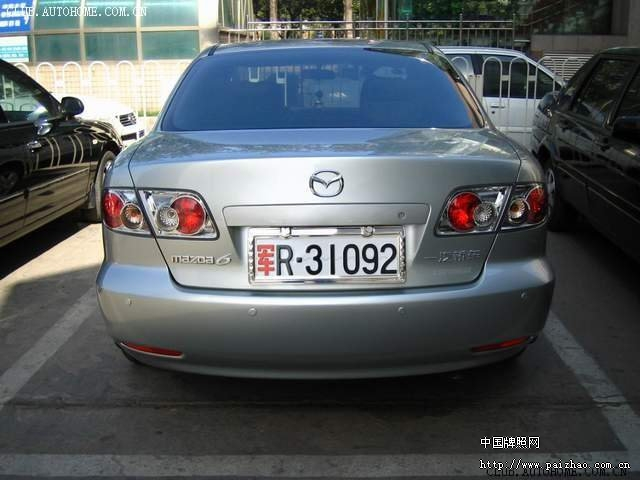plate_number: (249, 233, 406, 279)
